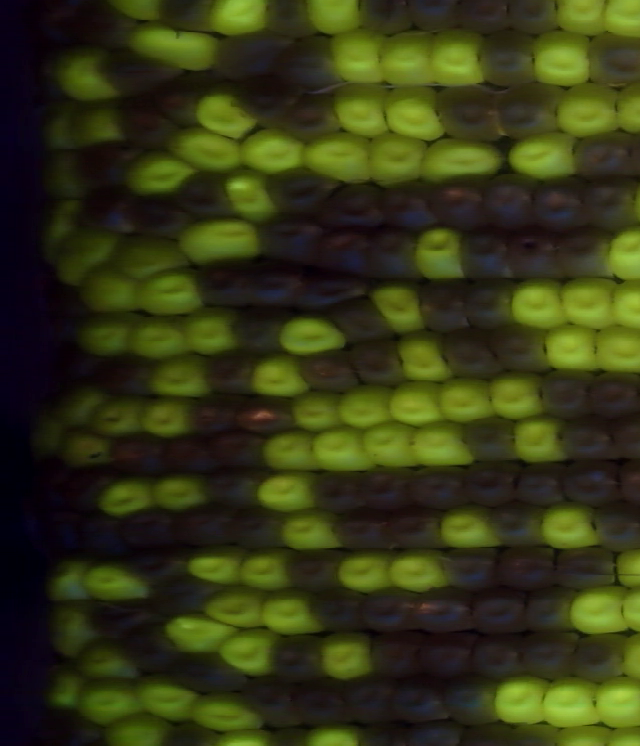fluorescent: (124, 18, 223, 74), (175, 215, 265, 270), (415, 135, 508, 187), (298, 128, 377, 188), (504, 125, 584, 183), (486, 668, 562, 729), (555, 78, 628, 141), (107, 230, 195, 282), (49, 43, 123, 104), (381, 82, 450, 146), (526, 28, 595, 91), (163, 123, 245, 175), (254, 582, 327, 640), (51, 222, 118, 285), (553, 271, 622, 332), (375, 24, 438, 90), (192, 82, 258, 145), (328, 79, 395, 141), (408, 221, 472, 285), (365, 129, 431, 191), (425, 27, 492, 88), (71, 678, 148, 731), (364, 278, 432, 338), (134, 264, 208, 318), (432, 372, 503, 428), (404, 418, 479, 471), (188, 688, 269, 737), (72, 262, 145, 316), (536, 674, 605, 731), (198, 584, 275, 635), (395, 325, 458, 387), (504, 275, 572, 332), (121, 148, 198, 198), (38, 599, 99, 662), (235, 125, 310, 176), (215, 623, 282, 680), (122, 311, 195, 363), (566, 581, 632, 638), (77, 558, 157, 605), (275, 308, 350, 358), (436, 501, 508, 553), (308, 424, 381, 475), (221, 165, 283, 225), (483, 365, 548, 422), (386, 543, 454, 597), (330, 28, 392, 87), (233, 541, 299, 596), (537, 498, 604, 552), (245, 351, 317, 401), (256, 426, 328, 476), (357, 418, 421, 474), (278, 504, 348, 555), (384, 378, 451, 431), (71, 635, 142, 685), (509, 412, 572, 468), (179, 304, 243, 358), (135, 675, 204, 725), (145, 355, 218, 402), (91, 473, 162, 521), (252, 468, 323, 516), (68, 96, 129, 151), (70, 311, 138, 360), (318, 628, 380, 681), (169, 615, 244, 658), (334, 381, 397, 432), (32, 196, 76, 269), (52, 380, 110, 435), (93, 708, 176, 746), (333, 550, 400, 596), (588, 321, 640, 379), (181, 545, 248, 590), (42, 149, 95, 205), (135, 392, 198, 439), (288, 388, 349, 436), (36, 91, 82, 154), (591, 673, 640, 732), (202, 1, 273, 41), (42, 553, 94, 607), (86, 396, 149, 439), (58, 425, 118, 470), (42, 662, 92, 715), (300, 1, 366, 41), (147, 471, 211, 512), (548, 1, 610, 40), (605, 219, 640, 288), (27, 408, 71, 458), (606, 273, 640, 335), (595, 1, 640, 41), (609, 542, 640, 591)
nonfluorescent: (491, 78, 575, 144), (500, 221, 575, 290), (433, 78, 506, 148), (95, 45, 191, 95), (261, 165, 346, 221), (165, 646, 258, 697), (553, 221, 625, 285), (515, 625, 586, 688), (112, 501, 190, 558), (309, 215, 376, 281), (547, 539, 625, 595), (476, 28, 544, 92), (286, 671, 362, 728), (270, 31, 342, 91), (74, 596, 162, 645), (232, 671, 305, 730), (410, 273, 477, 337), (227, 75, 306, 129), (318, 294, 398, 347), (208, 30, 285, 85), (291, 267, 374, 318), (162, 502, 245, 553), (475, 168, 542, 231), (191, 256, 268, 310), (360, 220, 426, 282), (552, 456, 625, 512), (28, 502, 97, 561), (434, 324, 504, 382), (265, 628, 335, 686), (356, 582, 428, 638), (483, 321, 553, 378), (376, 175, 447, 231), (527, 172, 592, 233), (59, 458, 128, 515), (427, 171, 489, 234), (257, 209, 320, 271), (408, 583, 483, 635), (572, 171, 640, 228), (464, 585, 532, 642), (406, 459, 475, 515), (482, 499, 552, 554), (145, 570, 225, 618), (491, 541, 562, 595), (437, 673, 503, 731), (354, 460, 421, 517), (75, 184, 143, 240), (537, 364, 598, 426), (582, 27, 640, 92), (567, 628, 632, 686), (466, 628, 532, 685), (458, 412, 525, 468), (291, 346, 363, 398), (72, 1, 140, 56), (75, 140, 143, 195), (106, 427, 174, 482), (412, 628, 482, 681), (229, 390, 303, 440), (114, 621, 182, 675), (224, 500, 294, 552), (569, 128, 636, 182), (112, 95, 180, 148), (555, 415, 623, 468), (125, 188, 194, 240), (365, 628, 432, 681), (389, 673, 456, 726), (337, 669, 397, 728), (72, 505, 133, 563), (229, 305, 292, 361), (343, 336, 407, 391), (382, 503, 451, 554), (435, 545, 504, 596), (243, 258, 308, 312), (279, 545, 349, 595), (180, 391, 254, 438), (328, 505, 397, 555), (303, 586, 372, 636), (152, 431, 225, 478), (203, 428, 276, 475), (455, 458, 522, 509), (508, 460, 575, 511), (204, 345, 262, 403), (315, 181, 385, 229), (281, 93, 345, 145), (522, 584, 587, 635), (455, 225, 515, 280), (588, 498, 640, 561), (148, 72, 205, 129), (310, 466, 372, 518), (96, 349, 160, 399), (584, 365, 640, 422), (174, 169, 235, 221), (200, 464, 266, 511), (38, 703, 109, 746), (465, 276, 520, 330), (125, 544, 195, 586), (34, 1, 87, 55), (28, 450, 77, 508), (400, 1, 470, 37), (500, 1, 563, 41), (153, 1, 218, 38), (450, 1, 514, 38), (262, 1, 320, 41), (355, 1, 417, 38), (605, 408, 640, 467), (397, 718, 468, 746), (455, 719, 525, 746), (155, 719, 221, 746), (351, 721, 417, 746), (505, 719, 563, 746), (258, 726, 312, 746)
